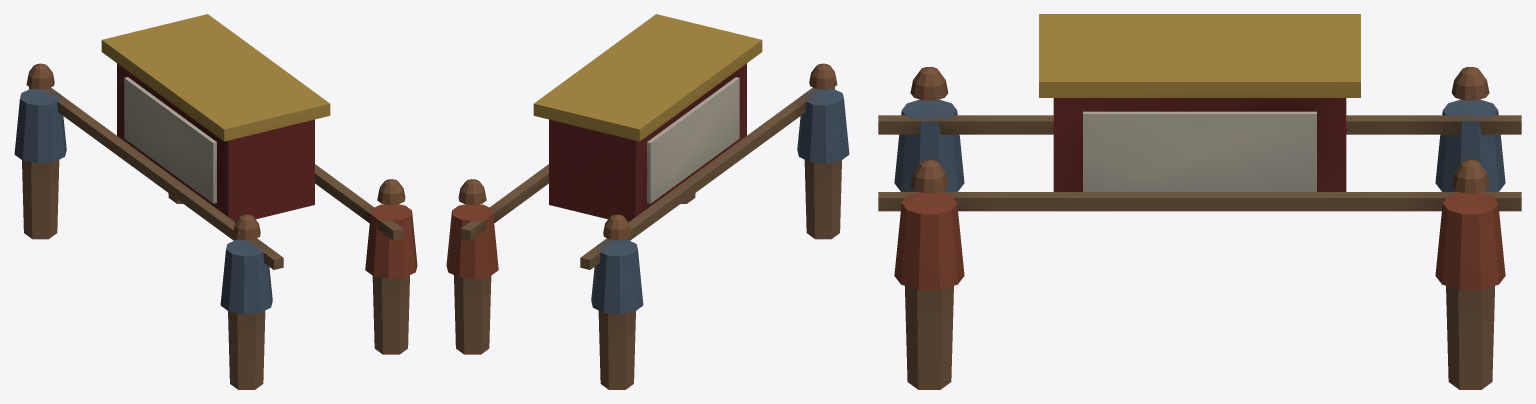
Rendered from litter.glb.
The picture shows the model from 3 angles, left to right: view 1: azimuth 30°, elevation 25°; view 2: azimuth 150°, elevation 25°; view 3: azimuth 270°, elevation 25°; orthographic projection. The views are drawn at different scales.
Visible parts, largest first — view 1: base; view 2: base; view 3: base.
Part boxes in pixels (<box>): base: <box>14,14,417,389</box>; base: <box>446,14,849,389</box>; base: <box>878,14,1521,389</box>.
Bounding box in the file's own units: 1.96 × 2.17 × 4.4.
